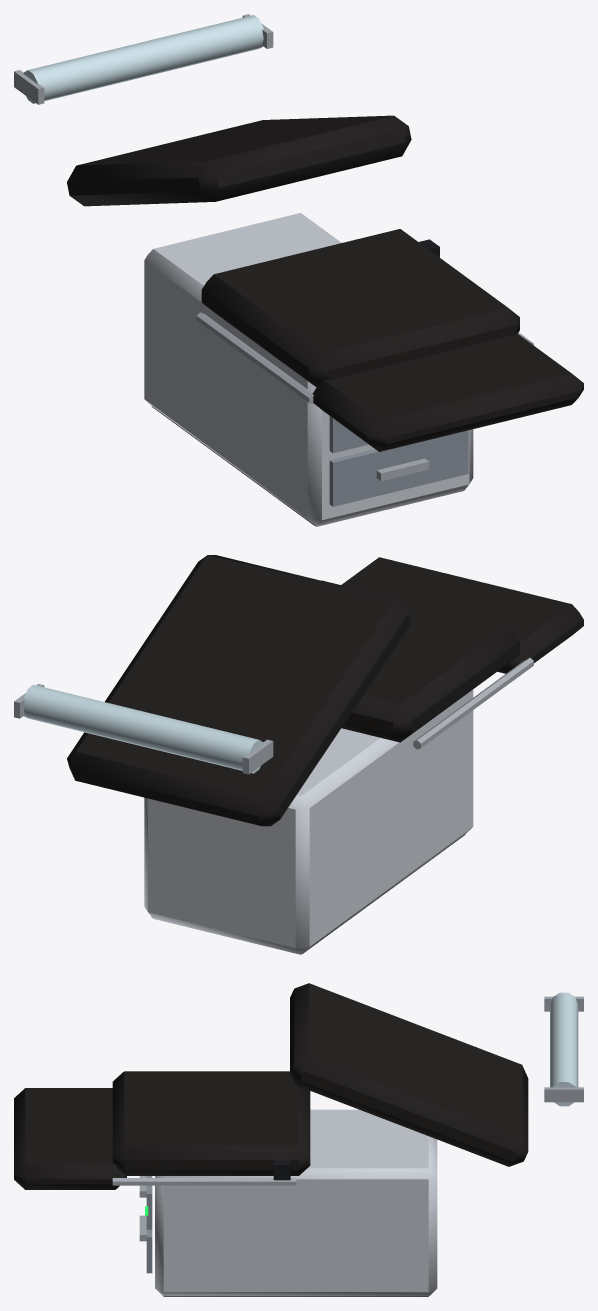
The model's file is medbed_exam_table.glb.
The picture shows the model from 3 angles, top to bottom: view 1: azimuth 30°, elevation 25°; view 2: azimuth 150°, elevation 25°; view 3: azimuth 270°, elevation 25°; orthographic projection. The views are drawn at different scales.
Visible parts, largest first — view 1: medbed_exam_table; view 2: medbed_exam_table; view 3: medbed_exam_table.
Part boxes in pixels (<box>): medbed_exam_table: <box>14,14,583,526</box>; medbed_exam_table: <box>14,555,583,954</box>; medbed_exam_table: <box>14,983,583,1296</box>.
Size of the model in its own units: 0.78 by 0.9679 by 2.02.
